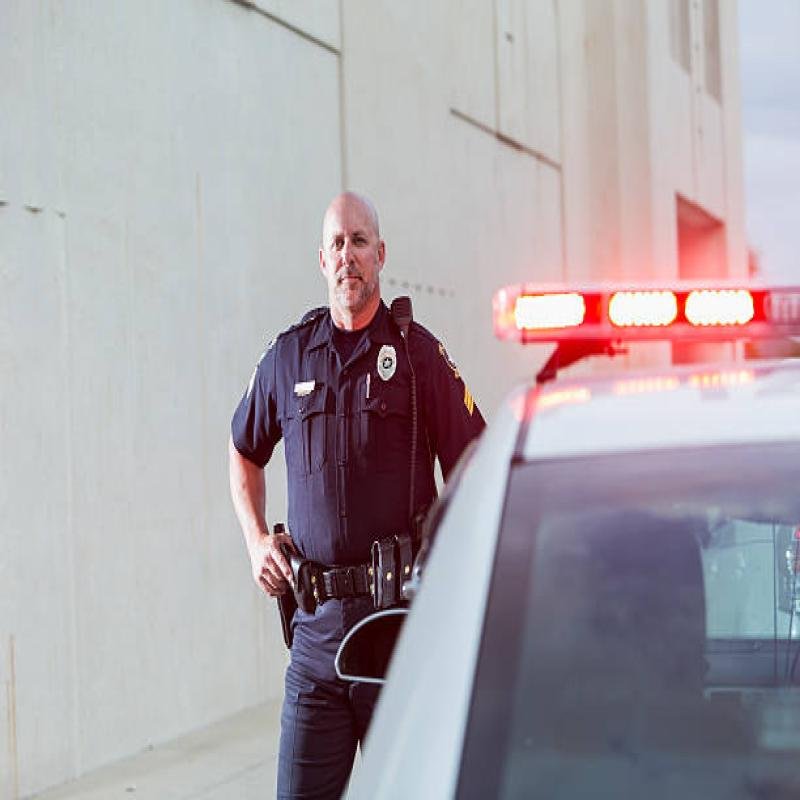AmbulanceSiren: (479, 262, 800, 384)
